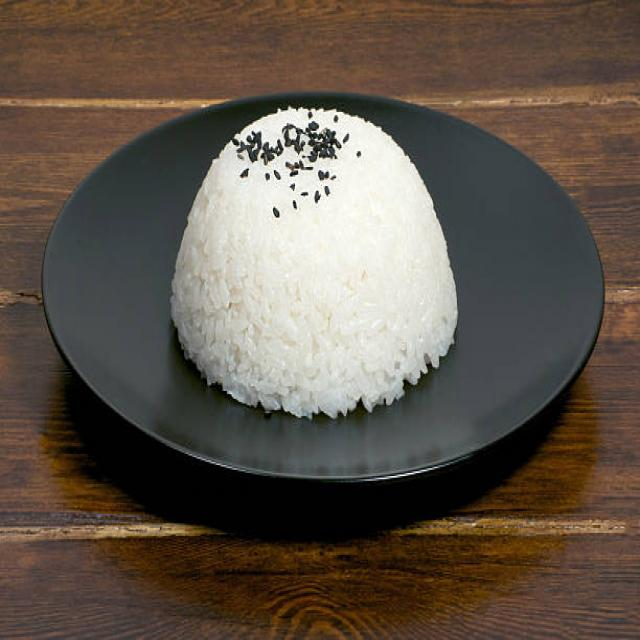rice: (172, 108, 459, 420)
